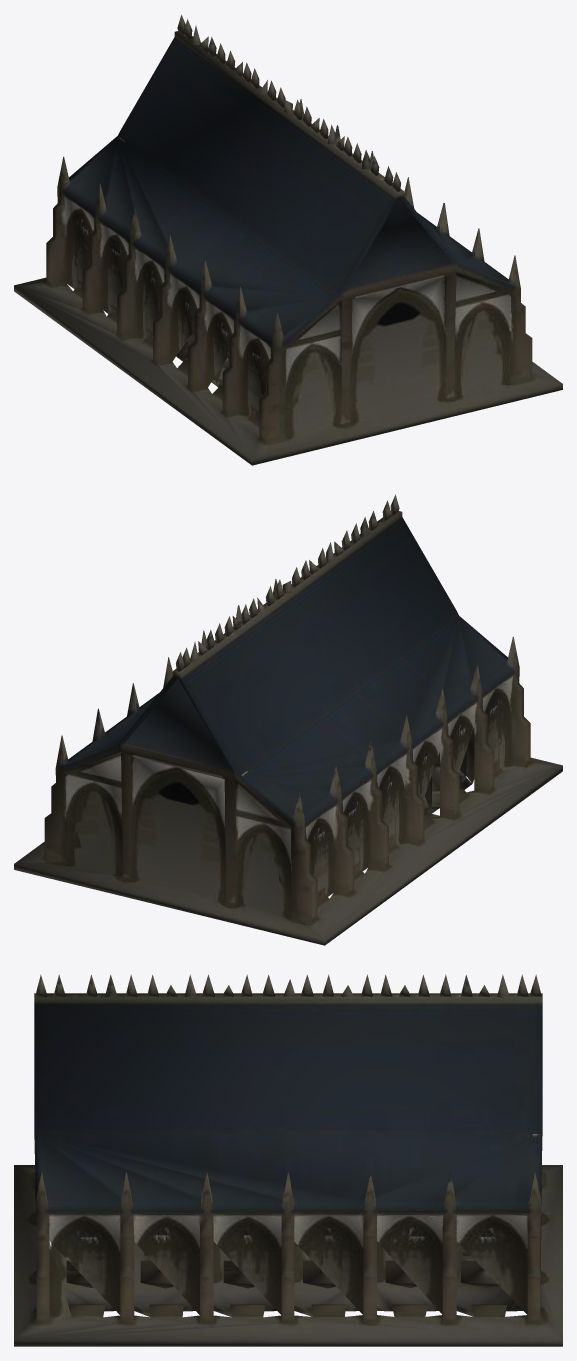
File: market.glb
The picture shows the model from 3 angles, top to bottom: view 1: azimuth 30°, elevation 25°; view 2: azimuth 150°, elevation 25°; view 3: azimuth 270°, elevation 25°; orthographic projection. The views are drawn at different scales.
Parts seen in each view (by area): view 1: tripo_node_68c8393b-3dcb-4258-90cb-ec0b9; view 2: tripo_node_68c8393b-3dcb-4258-90cb-ec0b9; view 3: tripo_node_68c8393b-3dcb-4258-90cb-ec0b9.
Boxes of the visible parts, x1,y1,x2,y2 form: tripo_node_68c8393b-3dcb-4258-90cb-ec0b9: [14, 14, 562, 465]; tripo_node_68c8393b-3dcb-4258-90cb-ec0b9: [14, 494, 562, 945]; tripo_node_68c8393b-3dcb-4258-90cb-ec0b9: [14, 974, 562, 1346].
Size of the model in its own units: 27.59 by 21 by 36.62.
1 material, 1 textured.
